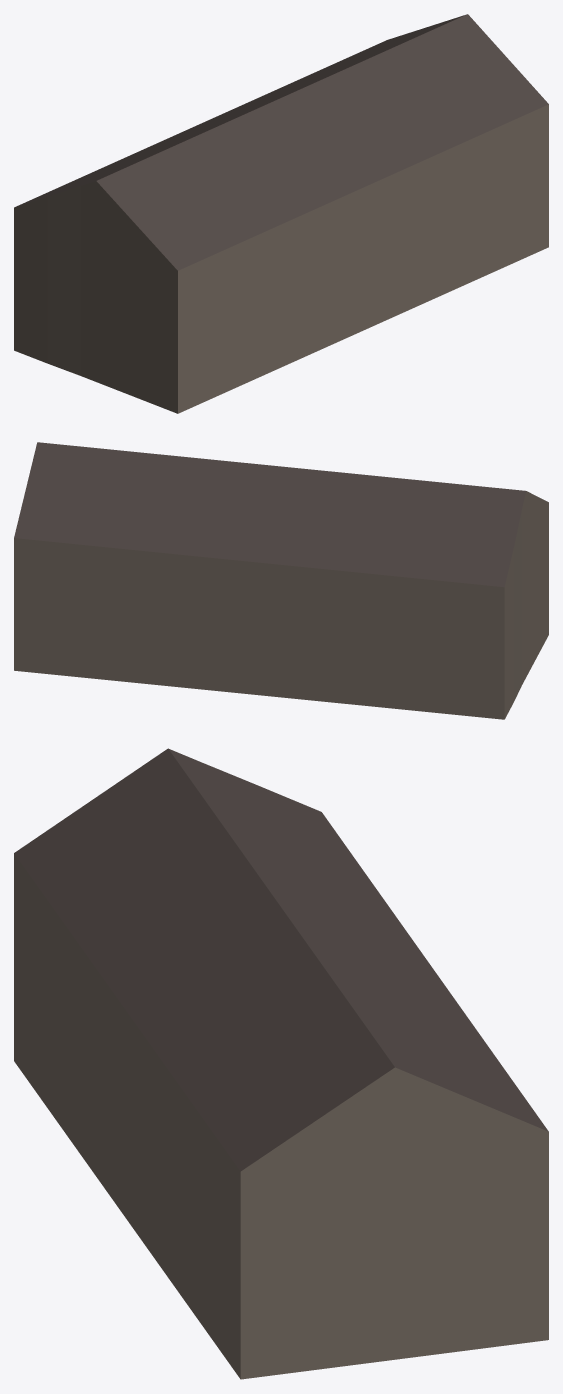
3 views of the same model, one above another, from view 1: azimuth 30°, elevation 25°; view 2: azimuth 150°, elevation 25°; view 3: azimuth 270°, elevation 25° (orthographic). The views are drawn at different scales.
Parts seen in each view (by area): view 1: HP-w1198840832; view 2: HP-w1198840832; view 3: HP-w1198840832.
Part boxes in pixels (x1,y1,x2,y2): HP-w1198840832: (14,14,548,413); HP-w1198840832: (14,442,548,719); HP-w1198840832: (14,748,548,1379).
Bounding box in the file's own units: 33.39 × 12.66 × 20.99.
